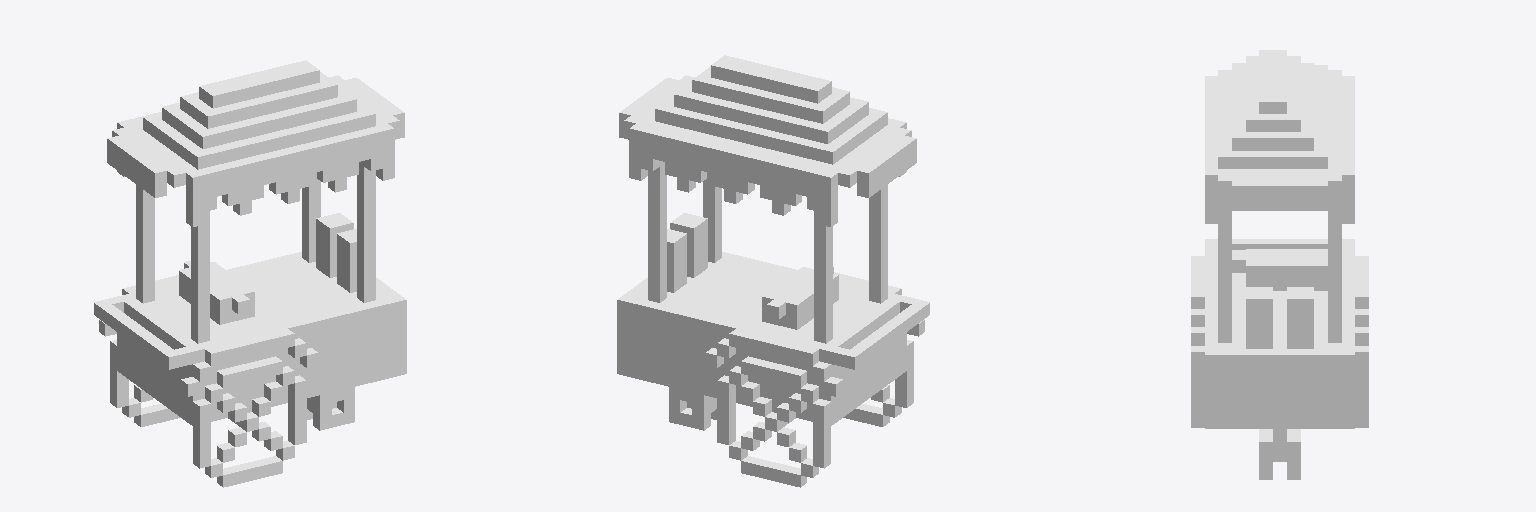
File: gglive_foodstand.obj
3 renders of one model, left to right at view 1: azimuth 30°, elevation 25°; view 2: azimuth 150°, elevation 25°; view 3: azimuth 270°, elevation 25°, orthographic.
Visible parts, largest first — view 1: gglive_foodstand; view 2: gglive_foodstand; view 3: gglive_foodstand.
Part boxes in pixels (x1,y1,x2,y2): gglive_foodstand: (94,60,406,487); gglive_foodstand: (617,55,929,487); gglive_foodstand: (1191,50,1368,479).
Bounding box in the file's own units: 21 × 29 × 13.